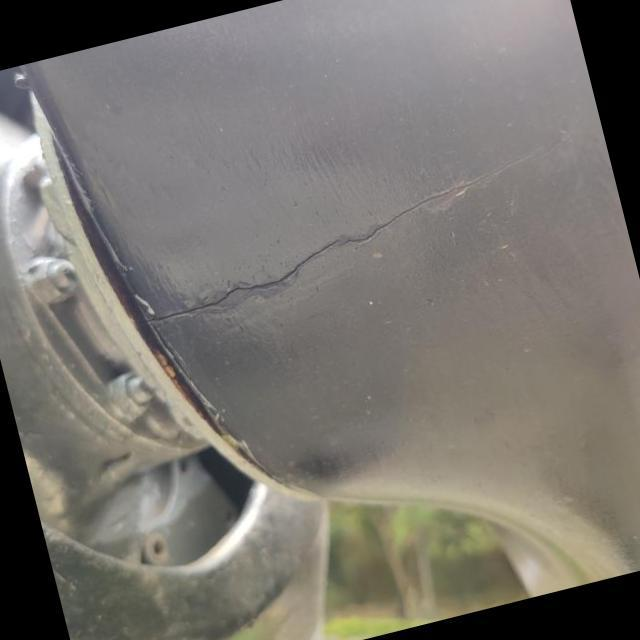Rupture: (94, 115, 588, 406)
